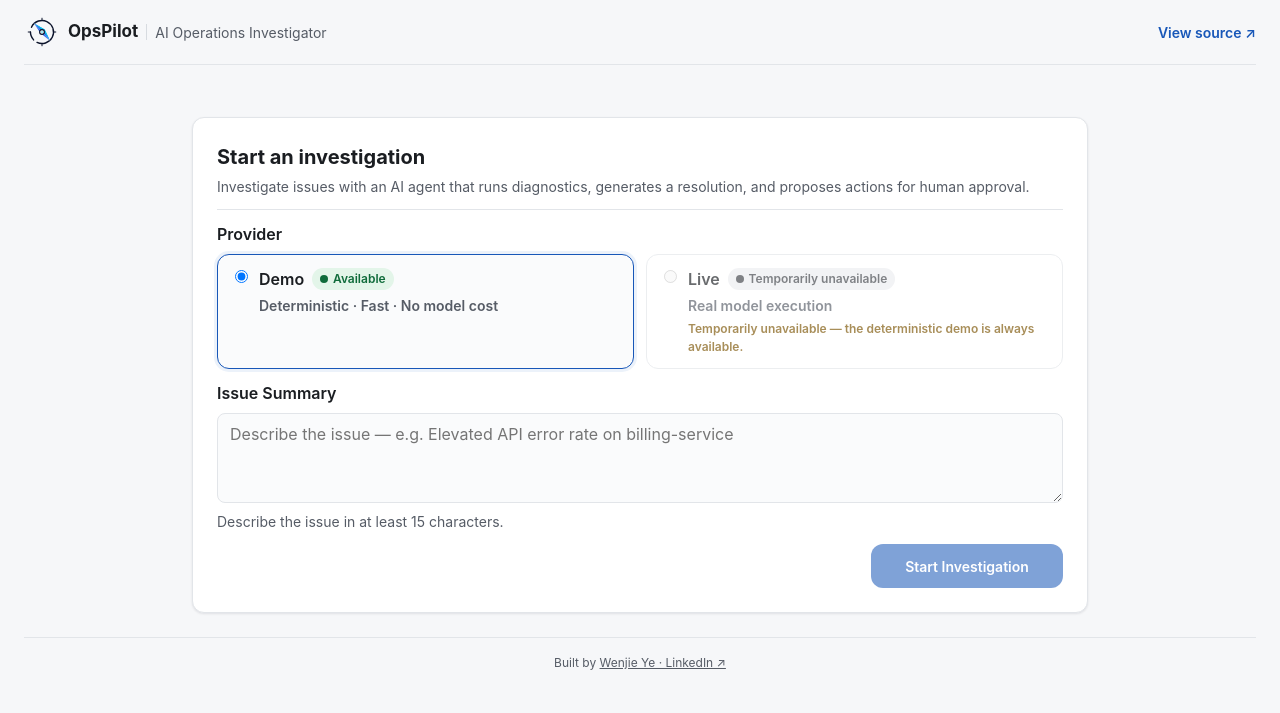
Test case: Data-driven reveal boundaries › terminal run with report but empty actions: Agent activity then Resolution report; no Suggested actions; no approval unless applicable
In the text box labelled "Issue Summary": (640, 458) [217,413,1063,503], type "Elevated error rate"
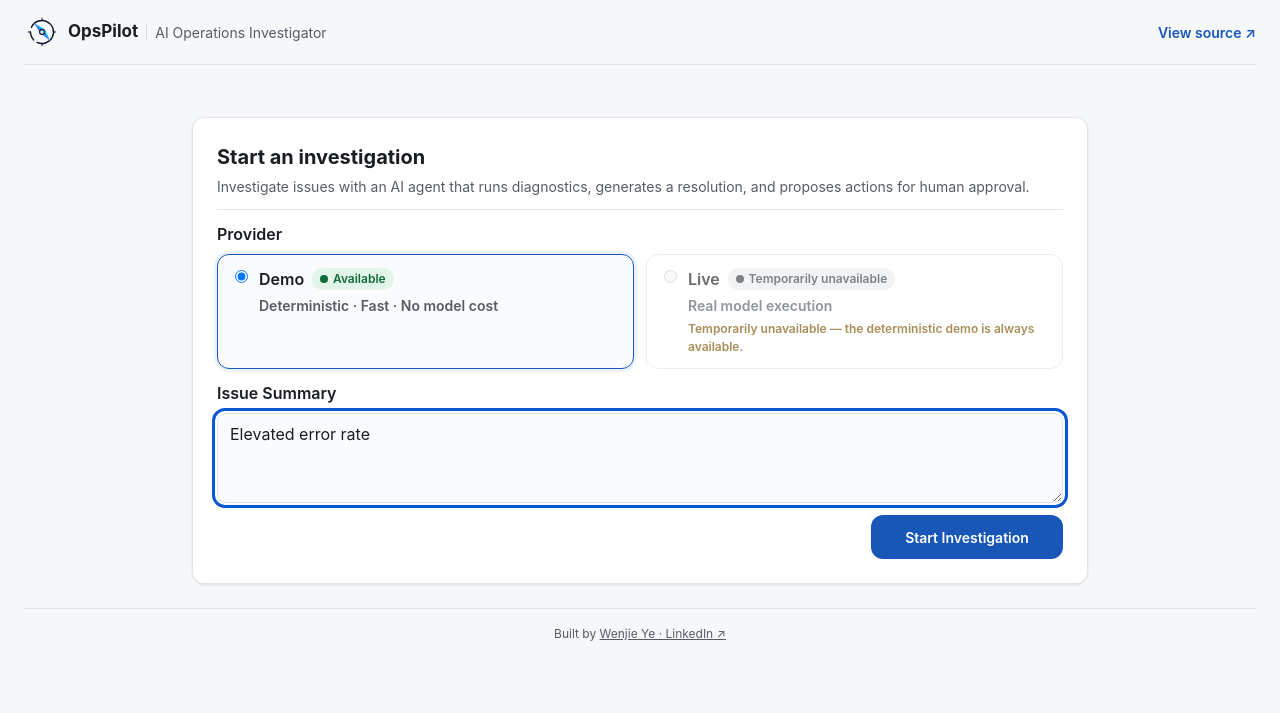
Click the button "Start Investigation": (967, 537) [871,515,1063,559]
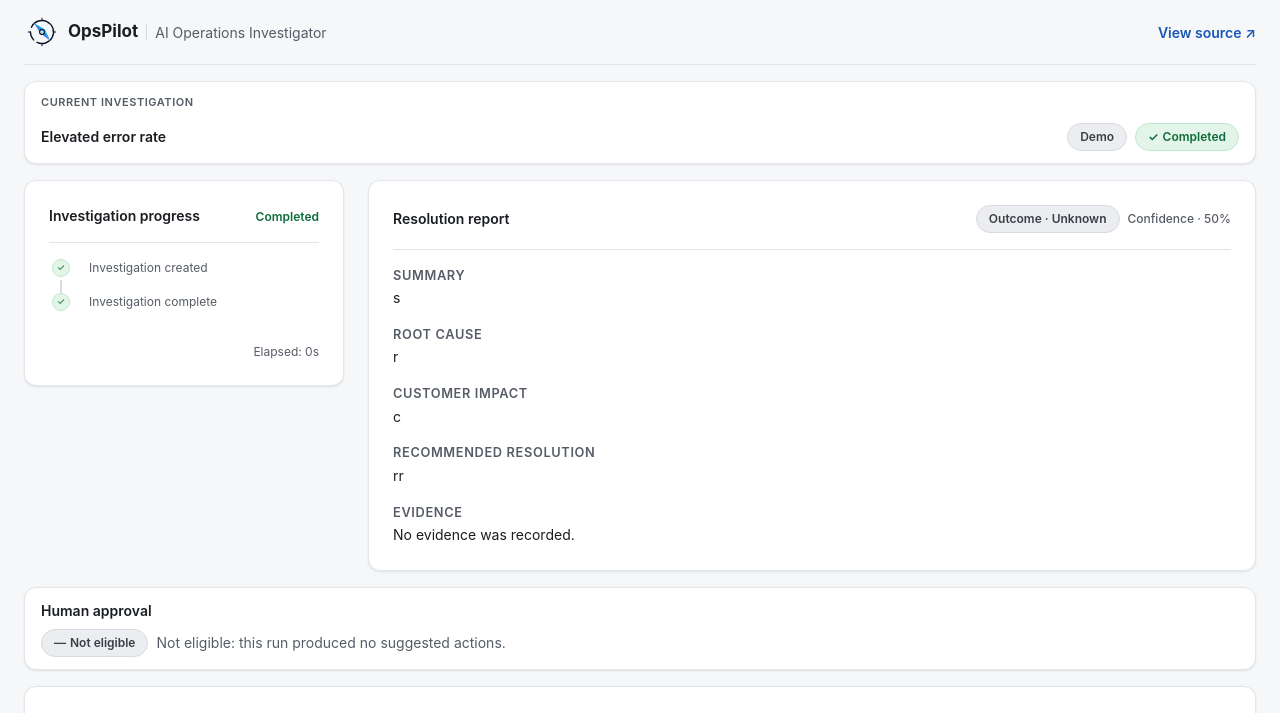
Result: the heading "Resolution report" is shown at [393,208,510,229]
